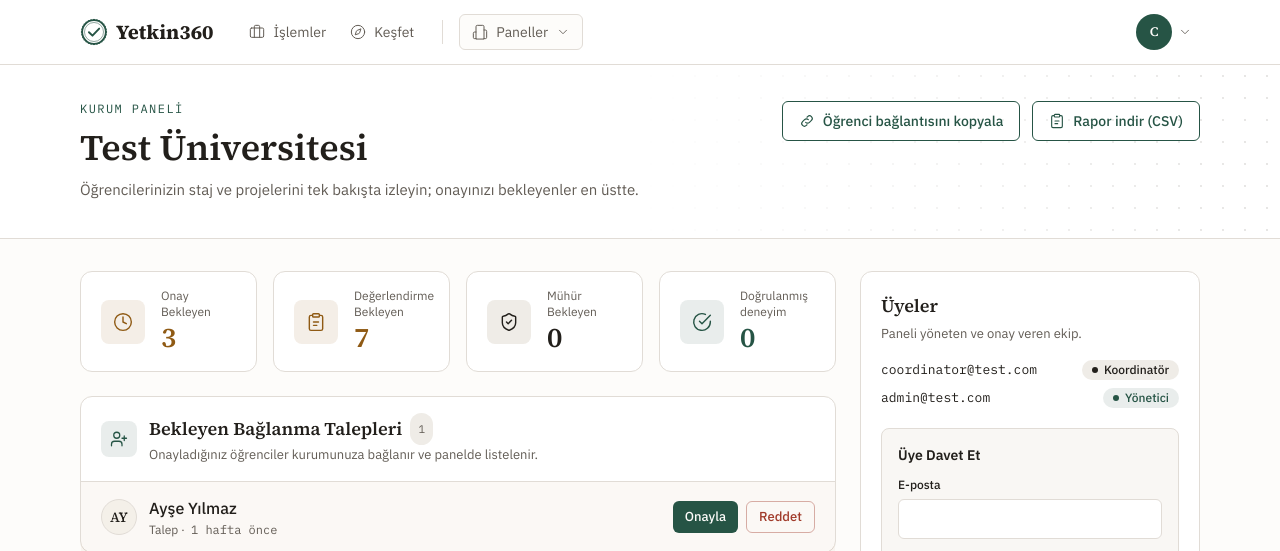
Test: KurumPanelPage (/kurum/[id]/panel) › YET-197/IS-10: Bekleyen bağlanma talepleri › Onayla butonuna tıklanınca approveLinkRequest çağrılır ve başarı mesajı gösterilir
This screenshot has width=1280, height=551.
Step 1. Click the button "Onayla" in the row of "Ayşe Yılmaz" → click(706, 516), box [673,500,738,532]
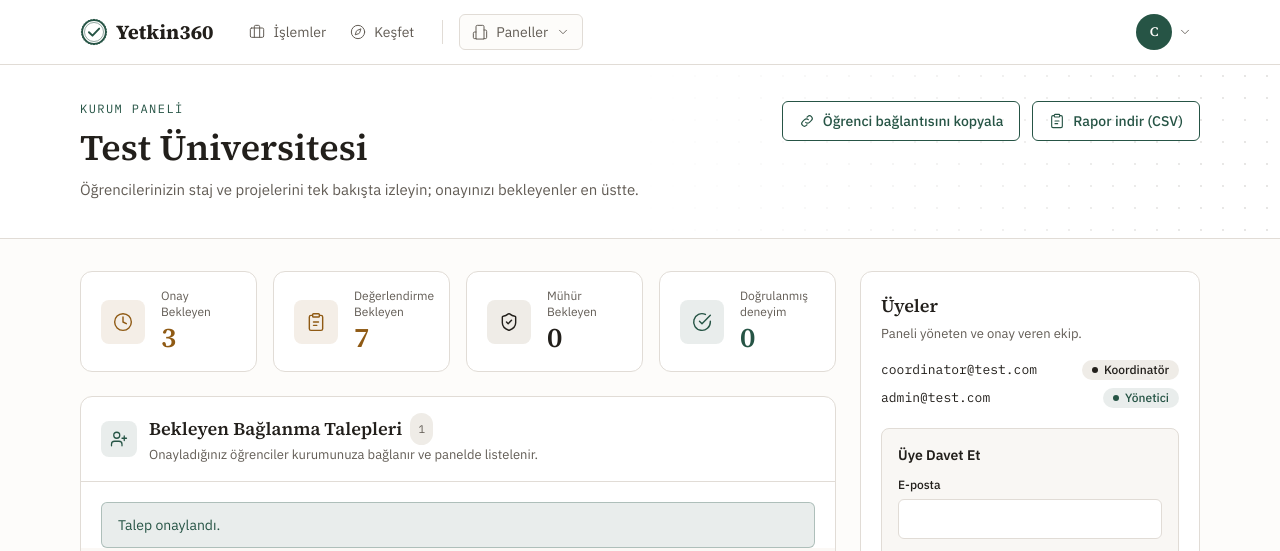
Check: the text "Talep onaylandı." is shown, box [101,502,815,548]
